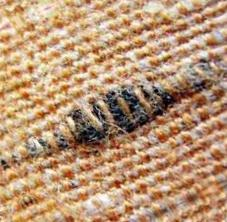slub: (1, 56, 227, 176)
